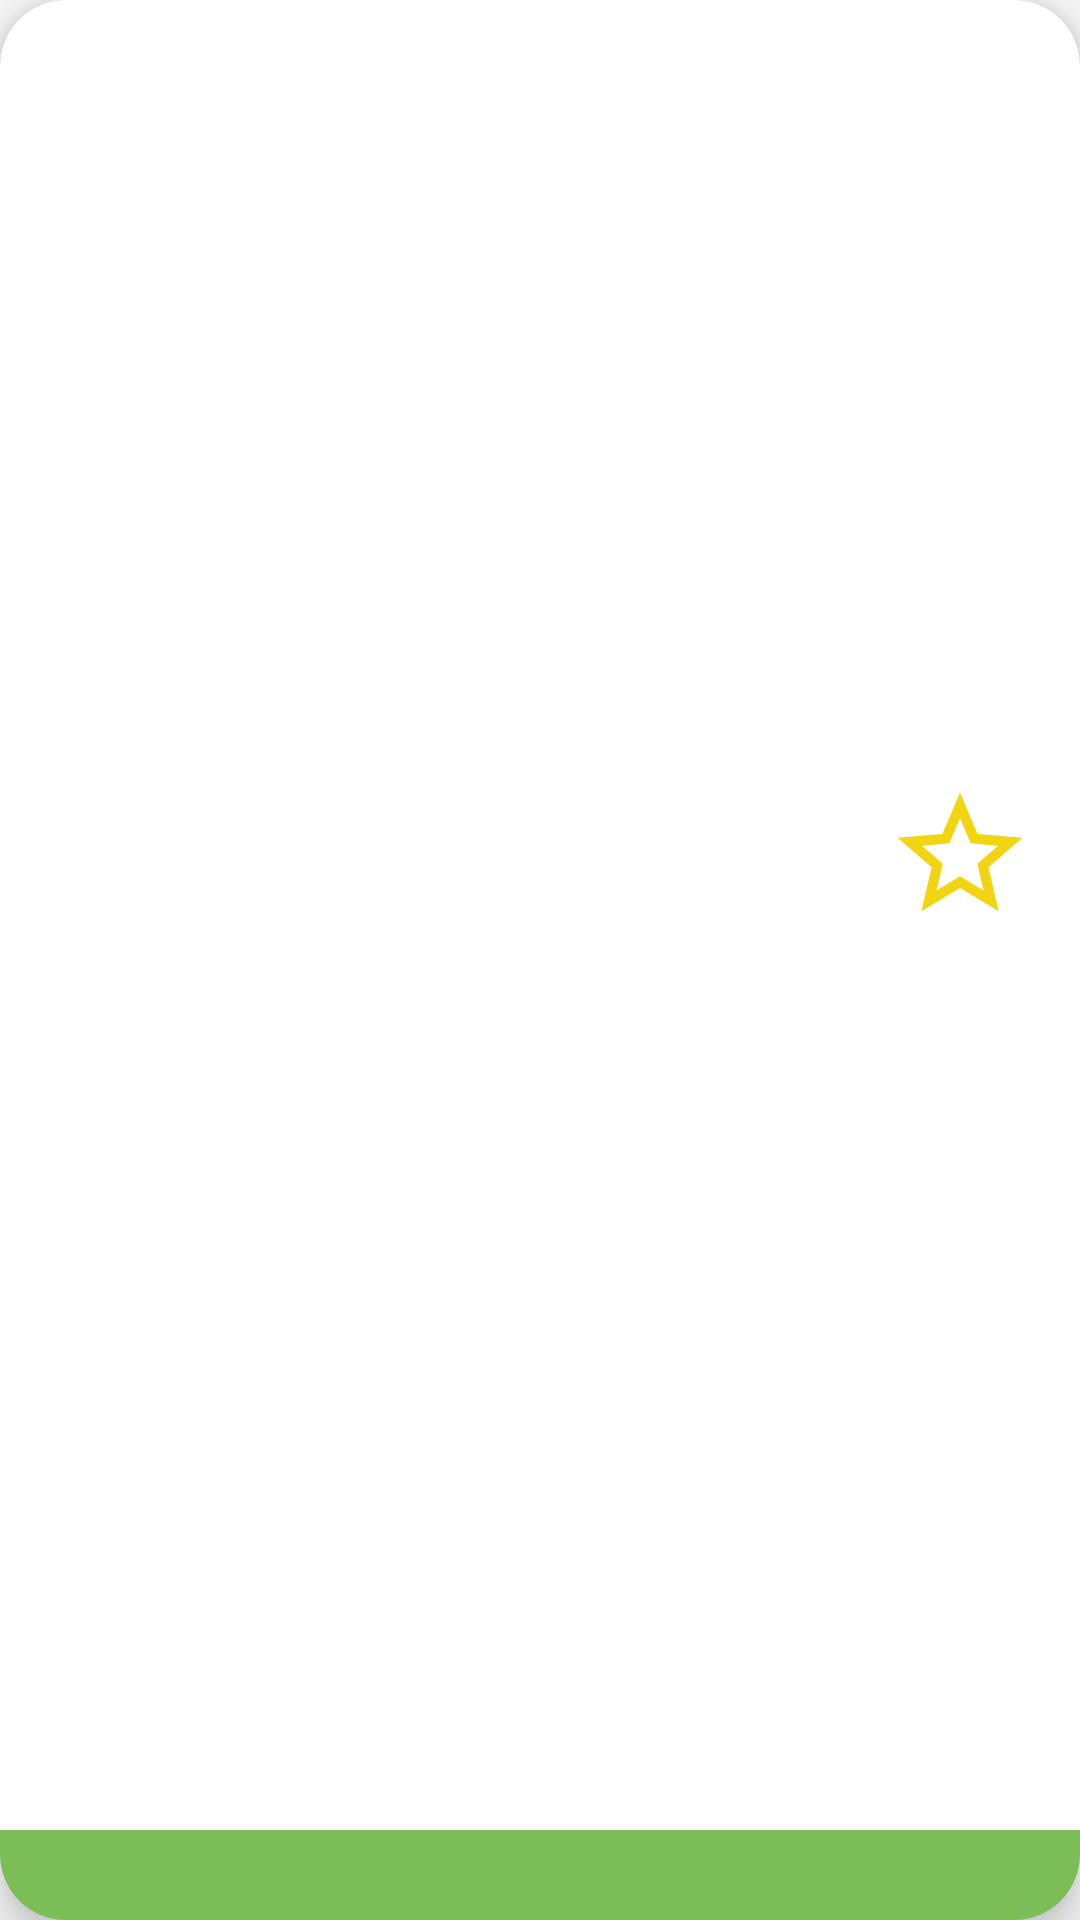

Screen size 1080×1920. Icon name, then its box in pixels as [x1=x1, y1=y1, x2=x2, y2=y2]:
star border: [x1=898, y1=793, x2=1022, y2=911]
